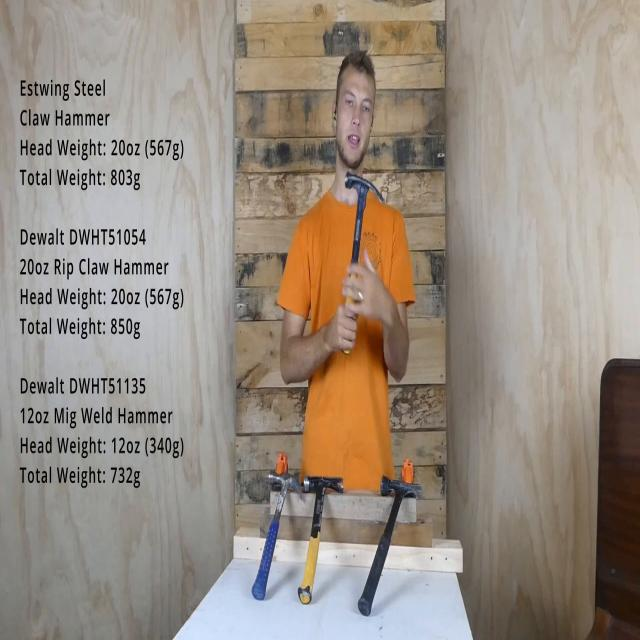hammer: (356, 477, 423, 616), (340, 174, 384, 357), (249, 471, 303, 600), (296, 474, 346, 608)
